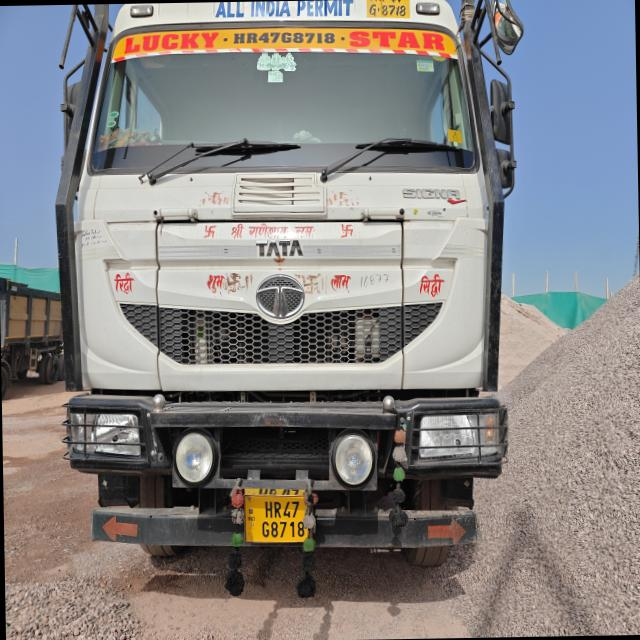license_plate: (244, 489, 307, 543)
